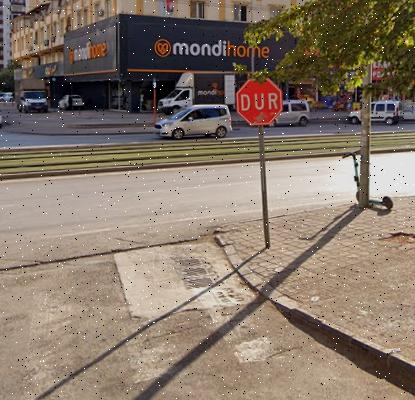stop: (239, 79, 281, 121)
